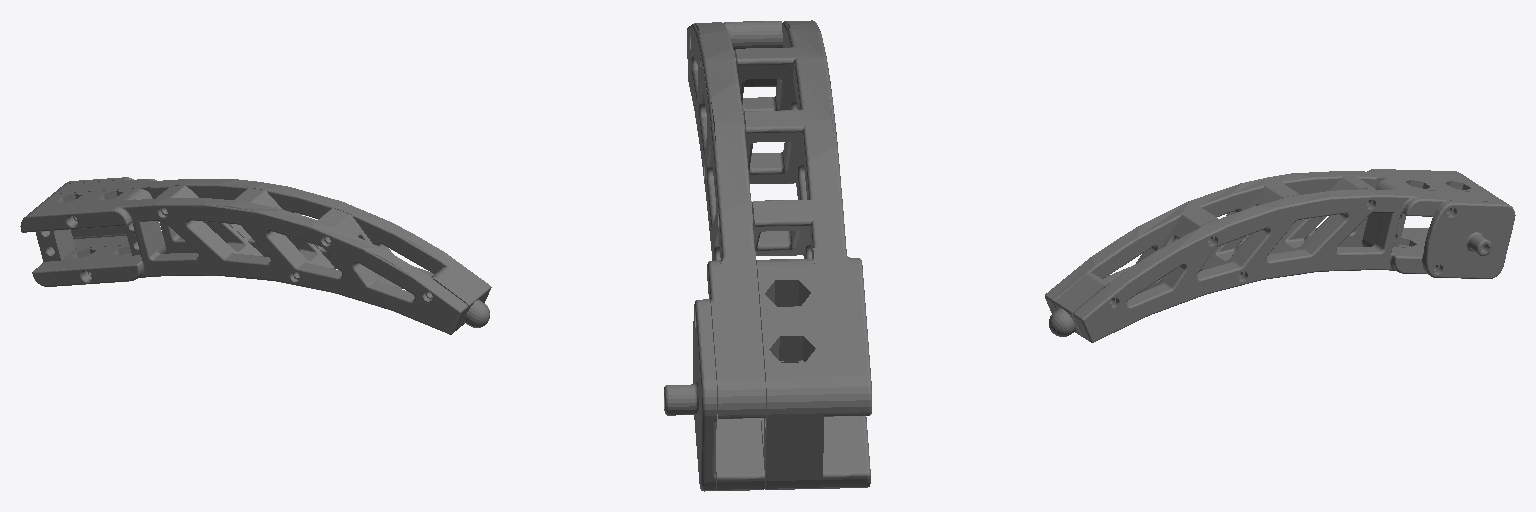
robot.urdf — onshape:
<robot name="onshape">

    <link name="world"/>

    <joint name="fixed" type="fixed">
        <parent link="world"/>
        <child link="body2"/>
      </joint>

    <link name="body2">
        <visual>
            <origin xyz="-2.0251919607972013182e-07 -9.3350295549132766837e-09 0" rpy="0 -0 0" />
            <geometry>
                <mesh filename="../meshes/body2.obj"/>
            </geometry>
            <material name="body2_material">
                <color rgba="0.49803921568627451677 0.49803921568627451677 0.49803921568627451677 1.0"/>
            </material>
        </visual>
        <collision>
            <origin xyz="-2.0251919607972013182e-07 -9.3350295549132766837e-09 0" rpy="0 -0 0" />
            <geometry>
                <mesh filename="../meshes/body2.obj"/>
            </geometry>
        </collision>
        <inertial>
            <origin xyz="4.8159086971463767161e-05 -0.0014156634461524764557 0.024780876379141083404" rpy="0 0 0"/>
            <mass value="1.3612542756189531801" />
            <inertia ixx="0.0077625706777320205645" ixy="2.5091052185424148231e-06" ixz="-5.8608327827102587042e-07" iyy="0.0063611320539585245251" iyz="-1.7398036421375984368e-05" izz="0.013115144217312024733" />
        </inertial>
    </link>

    <link name="coxa">
        <visual>
            <origin xyz="0.044924999999999687406 3.145194269415195476e-16 0.024449999999999996042" rpy="1.570796326794896336 4.1572969705147401066e-27 5.0966470094959365604e-17" />
            <geometry>
                <mesh filename="../meshes/coxa.obj"/>
            </geometry>
            <material name="coxa_material">
                <color rgba="0.2313725490196078538 0.38039215686274507888 0.7058823529411765163 1.0"/>
            </material>
        </visual>
        <collision>
            <origin xyz="0.044924999999999687406 3.145194269415195476e-16 0.024449999999999996042" rpy="1.570796326794896336 4.1572969705147401066e-27 5.0966470094959365604e-17" />
            <geometry>
                <mesh filename="../meshes/coxa.obj"/>
            </geometry>
        </collision>
        <inertial>
            <origin xyz="0.032100077240121767386 0.0015740371043174768845 0.033819596679097931047" rpy="0 0 0"/>
            <mass value="0.13178847096179543974" />
            <inertia ixx="0.0001120637319682607708" ixy="-2.7238887323284794569e-06" ixz="4.541961101453425331e-06" iyy="0.00015582474539323185633" iyz="1.6739702901874812073e-06" izz="8.7721551578304402452e-05" />
        </inertial>
    </link>

    <link name="femur">
        <visual>
            <origin xyz="0.11831370849898506514 -6.9388939039072283776e-18 0.034149999999999978983" rpy="2.5412593609926795065e-16 2.6169860213127295066e-16 -2.4651903288156618919e-32" />
            <geometry>
                <mesh filename="../meshes/femur.obj"/>
            </geometry>
            <material name="femur_material">
                <color rgba="0.97254901960784312376 0.52941176470588235947 0.0039215686274509803377 1.0"/>
            </material>
        </visual>
        <collision>
            <origin xyz="0.11831370849898506514 -6.9388939039072283776e-18 0.034149999999999978983" rpy="2.5412593609926795065e-16 2.6169860213127295066e-16 -2.4651903288156618919e-32" />
            <geometry>
                <mesh filename="../meshes/femur.obj"/>
            </geometry>
        </collision>
        <inertial>
            <origin xyz="0.060855439588990208055 -1.5373120823894589545e-09 0.035514840700278348107" rpy="0 0 0"/>
            <mass value="0.12356537633038003343" />
            <inertia ixx="0.00012639156802844351245" ixy="-3.3471051787725796419e-06" ixz="4.1877477426021486444e-07" iyy="0.00033659596516426965821" iyz="-1.0699466498548058562e-13" izz="0.0002464025580922648965" />
        </inertial>
    </link>

    <link name="tibia">
        <visual>
            <origin xyz="0.22117075446837430874 0.00010480390885179644012 0.034350000000001157385" rpy="4.3217611766192801141e-16 2.1006481850655434526e-16 -1.0400957034813095433e-32" />
            <geometry>
                <mesh filename="../meshes/tibia.obj"/>
            </geometry>
            <material name="tibia_material">
                <color rgba="0.49803921568627451677 0.49803921568627451677 0.49803921568627451677 1.0"/>
            </material>
        </visual>
        <collision>
            <origin xyz="0.22117075446837430874 0.00010480390885179644012 0.034350000000001157385" rpy="4.3217611766192801141e-16 2.1006481850655434526e-16 -1.0400957034813095433e-32" />
            <geometry>
                <mesh filename="../meshes/tibia.obj"/>
            </geometry>
        </collision>
        <inertial>
            <origin xyz="0.082543564299043192811 0.012215975630513638273 0.033115642475337048189" rpy="0 0 0"/>
            <mass value="0.17582156291145253912" />
            <inertia ixx="6.5153775351558298459e-05" ixy="-6.056210382916613126e-05" ixz="-1.7165392859817986117e-05" iyy="0.00090009683374289110175" iyz="-2.5261413588010218429e-06" izz="0.00091072918862152333567" />
        </inertial>
    </link>

    <joint name="Femur-Tibia3" type="revolute">
        <origin xyz="0.11831370849898451003 1.4398204850607498884e-16 -8.0491169285323849181e-16" rpy="-4.7097169221689461399e-16 -1.4670670663049555307e-15 -1.2663621787127591924e-16" />
        <parent link="femur" />
        <child link="tibia" />
        <axis xyz="0 0 1"/>
        <limit effort="1" velocity="20" />
        <joint_properties friction="0.0"/>
    </joint>

    <joint name="Coxa-Femur4" type="revolute">
        <origin xyz="0.044924999999999631894 0.034150000000000402256 0.024450000000000020328" rpy="1.5707963267948961139 3.330669073875466663e-16 -1.3539069738710677131e-16" />
        <parent link="coxa" />
        <child link="femur" />
        <axis xyz="0 0 1"/>
        <limit effort="1" velocity="20" />
        <joint_properties friction="0.0"/>
    </joint>

    <joint name="Body-Coxa1" type="revolute">
        <origin xyz="0.081700031797662359123 -0.12580337699943183738 -0.013800000000000003236" rpy="0 -2.0497056596268378887e-58 -0.99483767363676767204" />
        <parent link="body2" />
        <child link="coxa" />
        <axis xyz="0 0 1"/>
        <limit effort="1" velocity="20" />
        <joint_properties friction="0.0"/>
    </joint>
</robot>

--- Render facts (derived) ---
3 views of the same robot in one strip: view 1: azimuth 30°, elevation 25°; view 2: azimuth 150°, elevation 25°; view 3: azimuth 270°, elevation 25° (orthographic).
Model onshape with 5 links and 4 joints (3 revolute, 1 fixed), rooted at world, posed all joints at 0.
Visible links, largest first — view 1: tibia; view 2: tibia; view 3: tibia.
Link boxes in pixels (x1,y1,x2,y2): tibia: (20,177,491,334); tibia: (664,20,871,491); tibia: (1045,169,1515,342).
Bounding box of the posed robot: 0.1607 × 0.222 × 0.063 m (x, y, z).
Meshes: 4 distinct files referenced, 1 mesh visuals loaded (1 OBJ); not drawn: 3 (reference not matched to a file when rendering).